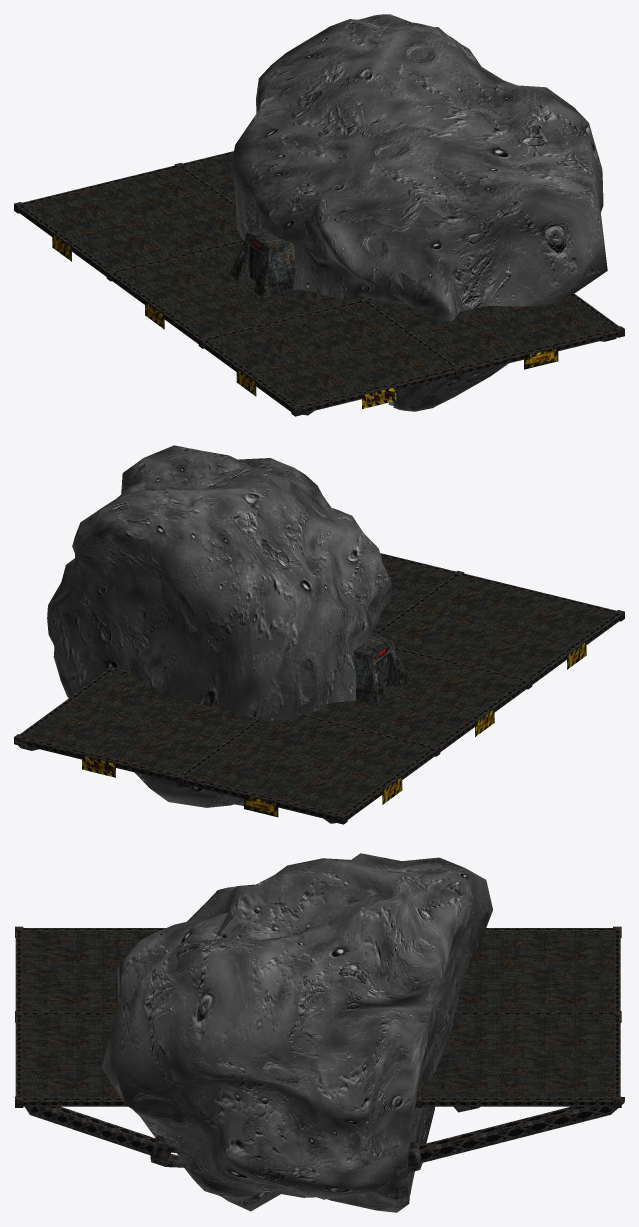
Rendered from Station04.fbx.
3 renders of one model, top to bottom at view 1: azimuth 30°, elevation 25°; view 2: azimuth 150°, elevation 25°; view 3: azimuth 270°, elevation 25°, orthographic. The views are drawn at different scales.
Visible parts, largest first — view 1: Sphere06, Box08, Object28; view 2: Sphere06, Box08, Object28; view 3: Sphere06, Box08.
Boxes of the visible parts, x1,y1,x2,y2 form: Sphere06: (230, 14, 607, 411); Box08: (14, 151, 624, 416); Object28: (229, 228, 294, 297); Sphere06: (47, 445, 391, 807); Box08: (14, 553, 624, 824); Object28: (353, 634, 410, 705); Sphere06: (102, 853, 492, 1212); Box08: (15, 926, 624, 1172).
Bounding box in the file's own units: 636 × 471 × 764.
